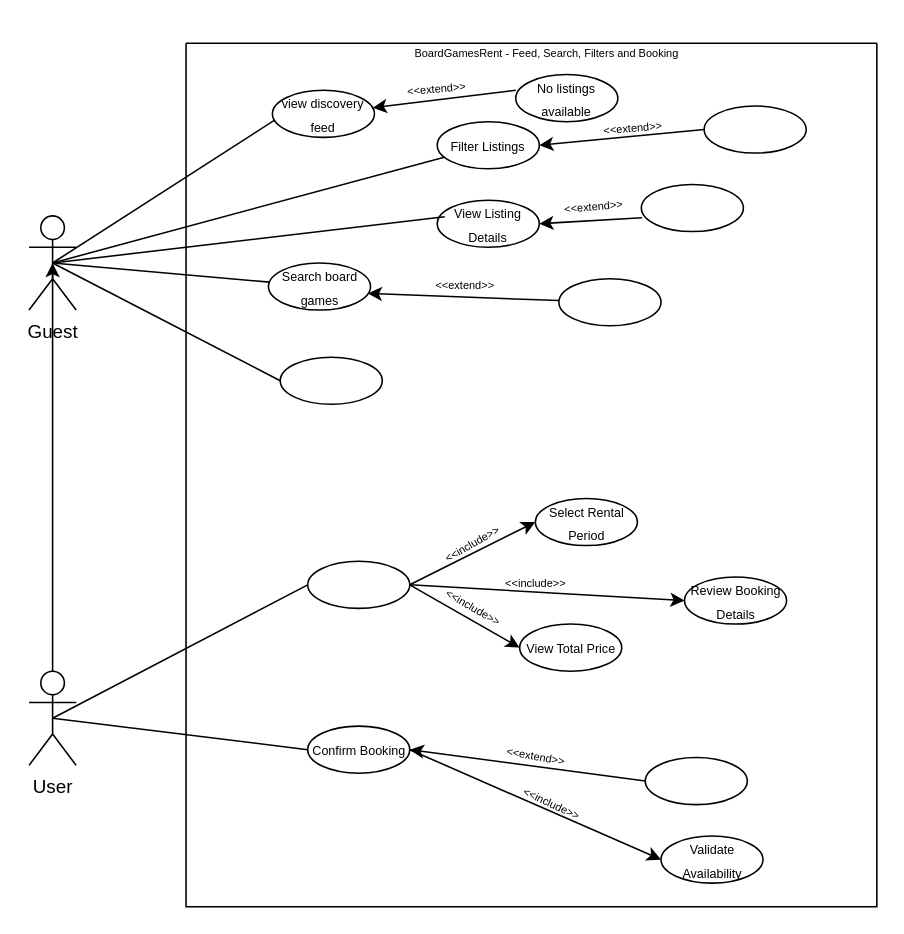
Some shapes in this 904 by 934 pixel diagram are drawn without their labels. The shapes that lost their labels are listed below. From the top down, each one's centre as x and y in pixels, then its label:
At pixel 754 128: "No Filter Results".
At pixel 691 207: "Listing Details Error".
At pixel 609 301: "No Search Results".
At pixel 330 380: "Sort Listings".
At pixel 358 584: "Initiate Booking".
At pixel 695 780: "Booking Rejected".
